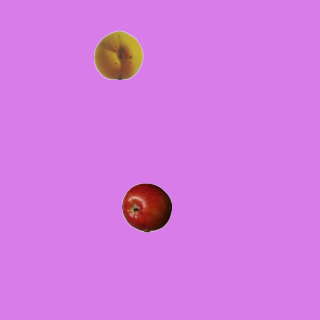Apple Braeburn: (121, 182, 171, 232)
Peach 2: (93, 29, 143, 79)
